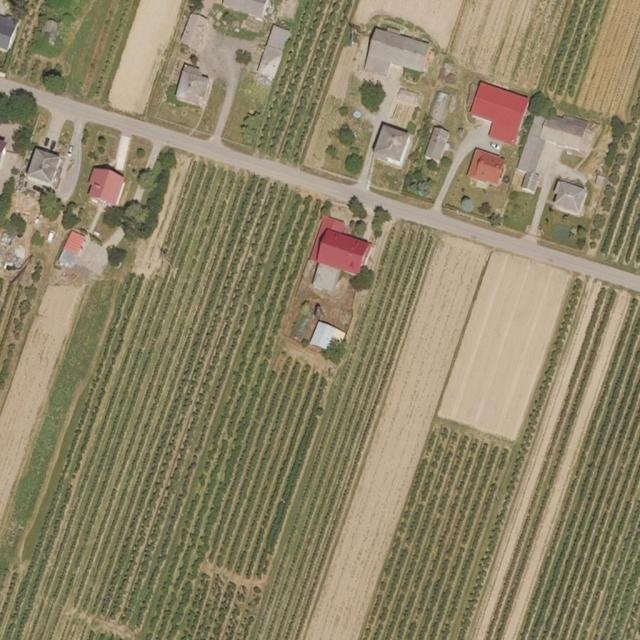agricultural_land: (0, 149, 640, 640), (256, 0, 640, 269)
building: (512, 111, 597, 218), (308, 214, 377, 279), (464, 81, 530, 146), (362, 27, 431, 86), (81, 160, 131, 211), (254, 24, 292, 86), (370, 121, 415, 168), (23, 144, 66, 190), (173, 68, 216, 112), (467, 148, 508, 187), (389, 87, 423, 130), (309, 319, 348, 355), (424, 125, 454, 165), (62, 229, 88, 258), (0, 15, 18, 52)
dryland: (199, 80, 266, 144), (205, 25, 250, 68)
greenland: (13, 0, 205, 121), (307, 68, 392, 181)
